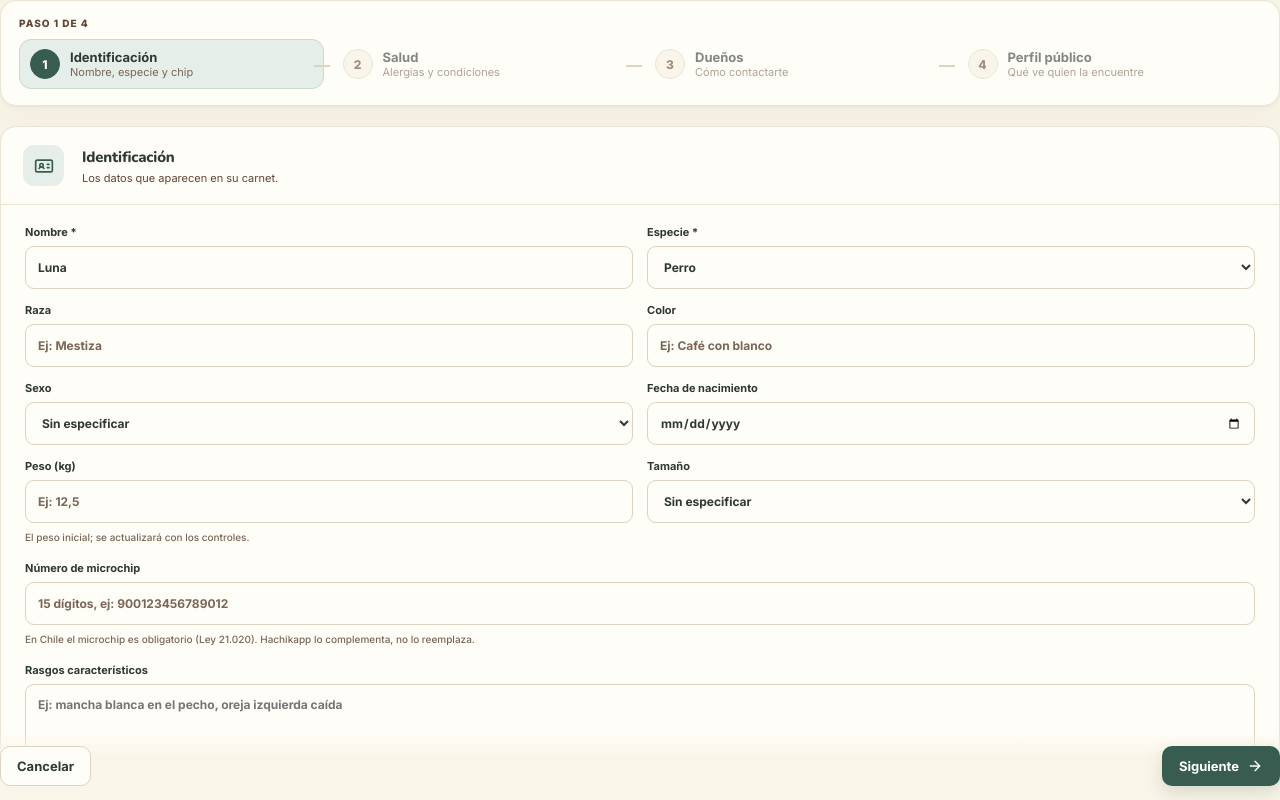
it: PetForm wizard › opens the earliest step that has a server error
The width and height of the screenshot is (1280, 800).
What coordinates should you click on to do the following:
click the button "Siguiente"
I would click on:
 (1221, 766)
Its box is [1162,746,1279,786].
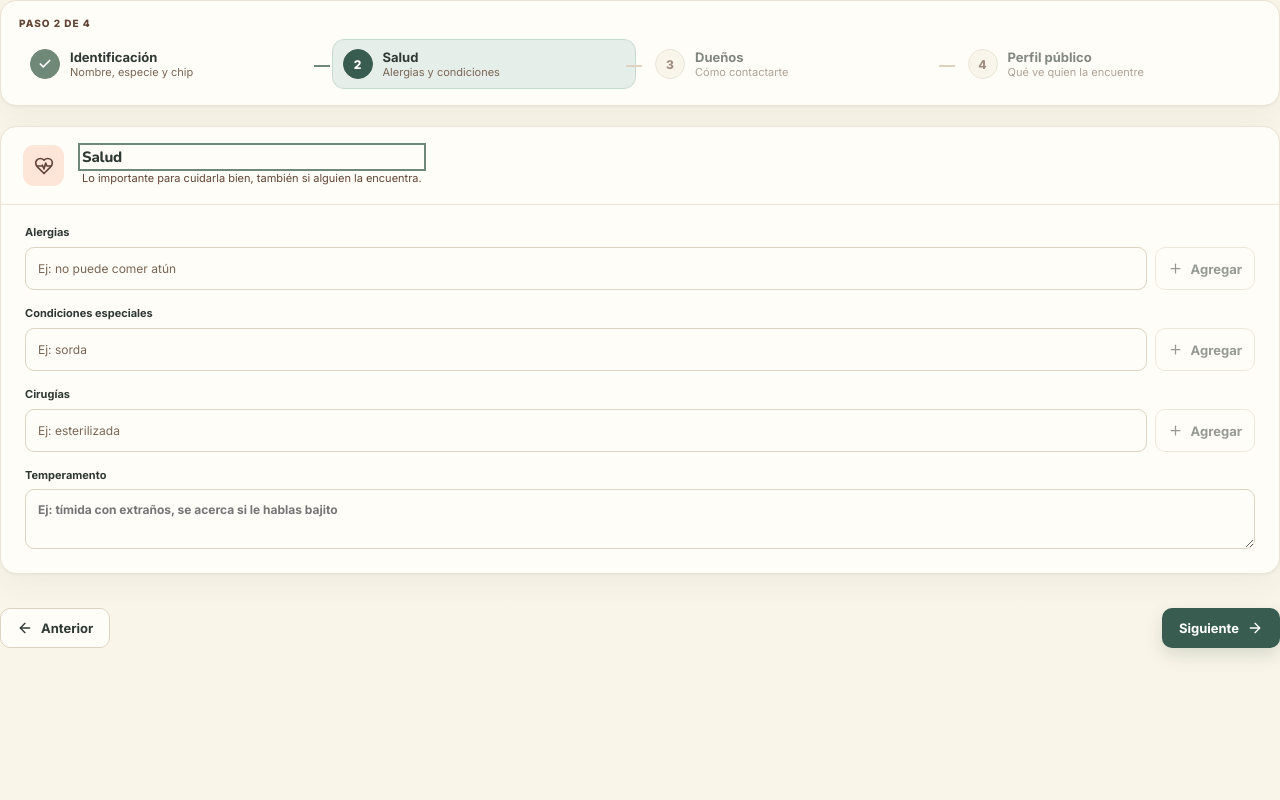
What coordinates should you click on to do the following:
click the button "Siguiente"
I would click on:
 (1221, 628)
Its box is [1162,608,1279,648].
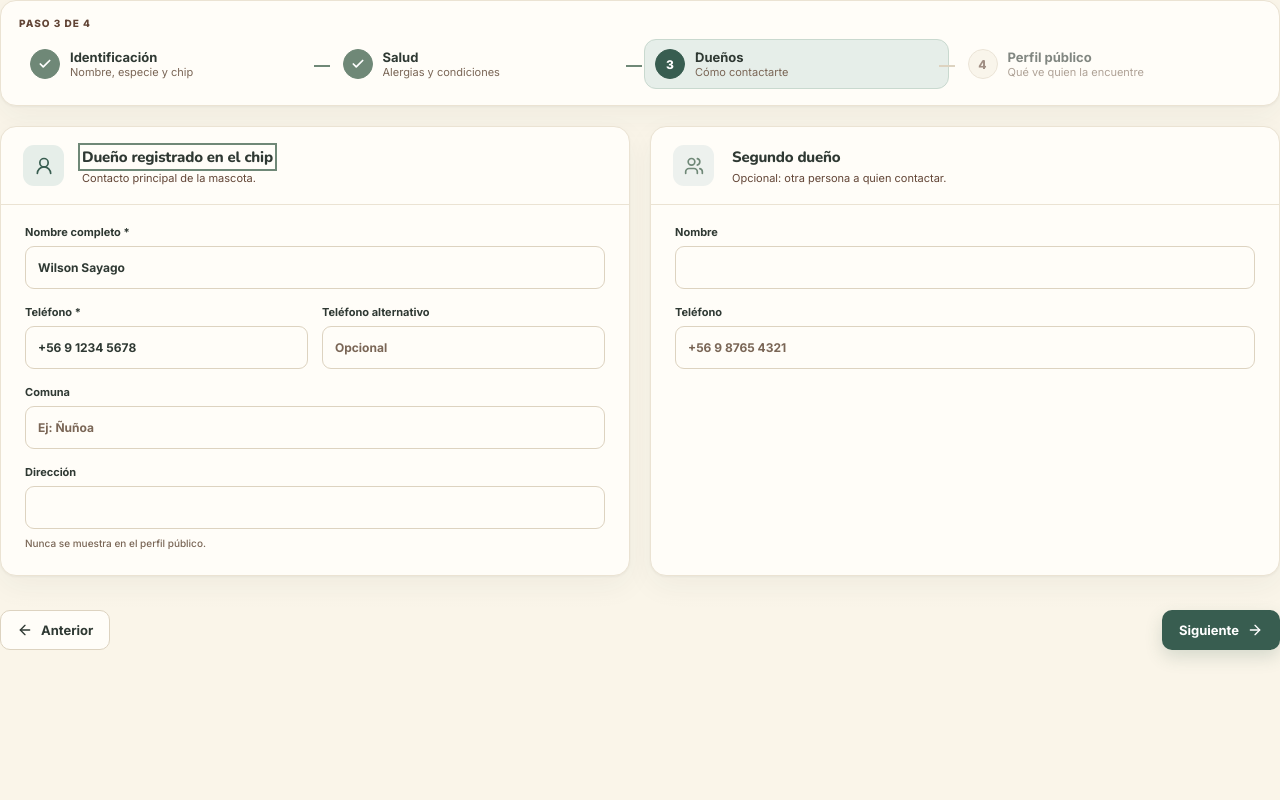
What coordinates should you click on to do the following:
click the button "Siguiente"
I would click on:
 (1221, 630)
Its box is [1162,610,1279,650].
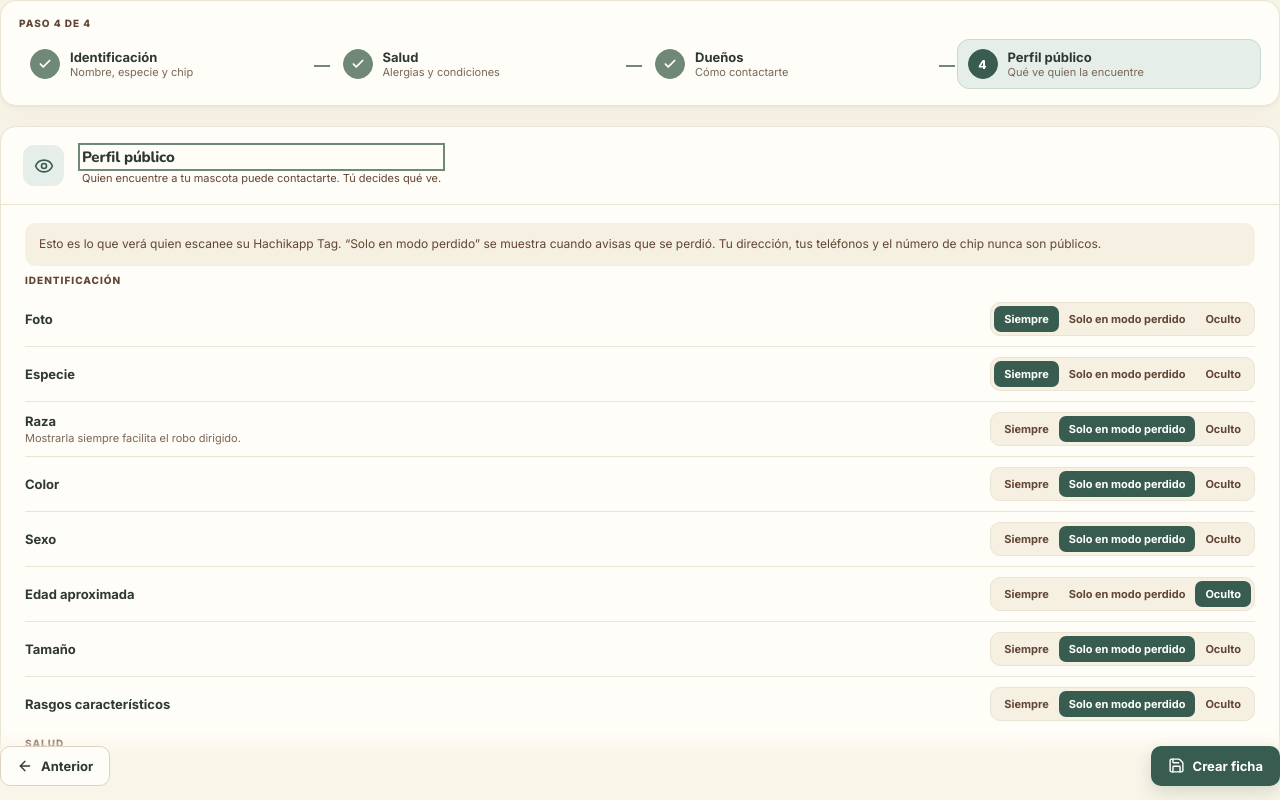
What coordinates should you click on to do the following:
click the button "Crear ficha"
I would click on:
 (1215, 766)
Its box is [1150,746,1279,786].
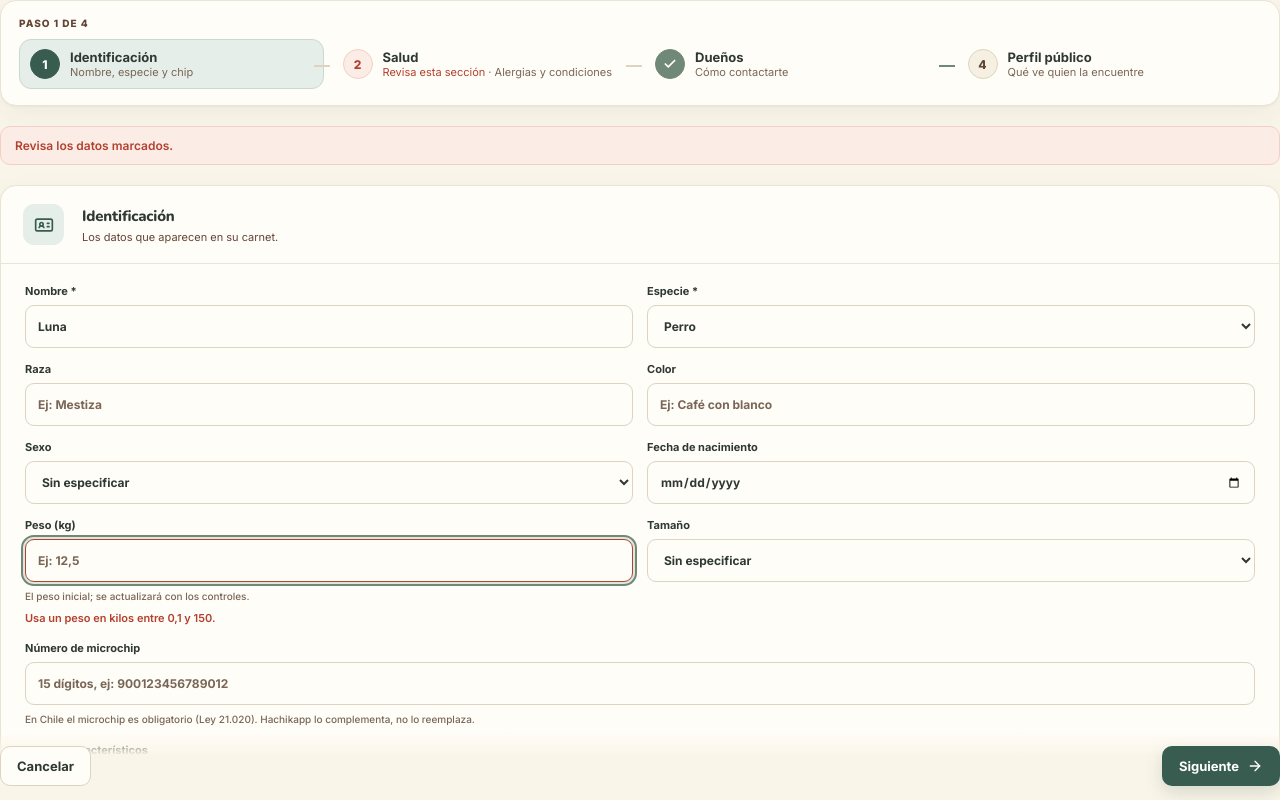
Check: the text "Paso 1 de 4" is shown, box [19,17,89,29]
Check: the text "Usa un peso en kilos entre 0,1 y 150." is shown, box [25,611,215,625]
